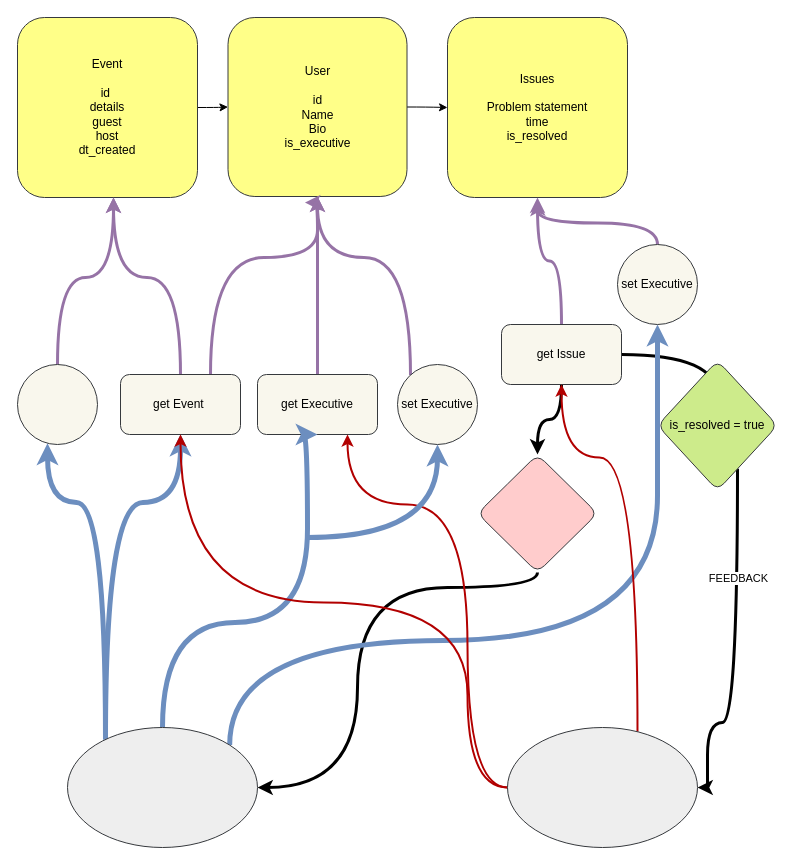
The diagram is 795 pixels wide and 865 high, and some of its shapes have lost their labels. The box of each missing label's shape, as (x1, y1, x2, y2) in pixels:
Admin: (66, 726, 258, 848)
is_resolved = false: (476, 454, 598, 572)
set Event: (16, 364, 98, 444)
User: (506, 726, 698, 848)
